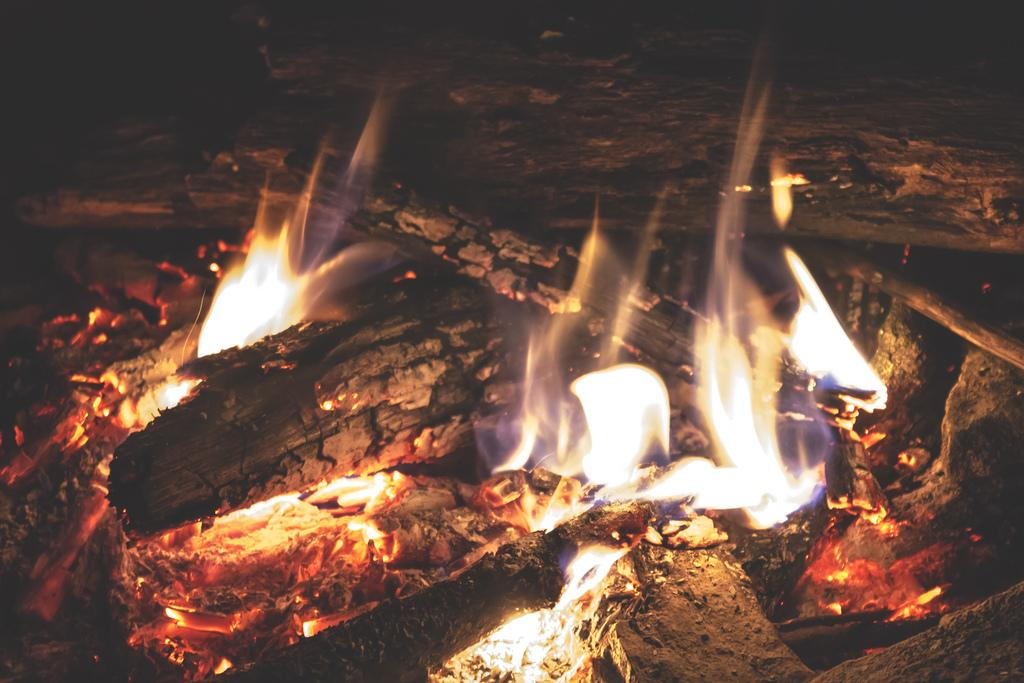fire: (528, 350, 782, 493), (208, 238, 303, 350), (785, 307, 865, 385)
